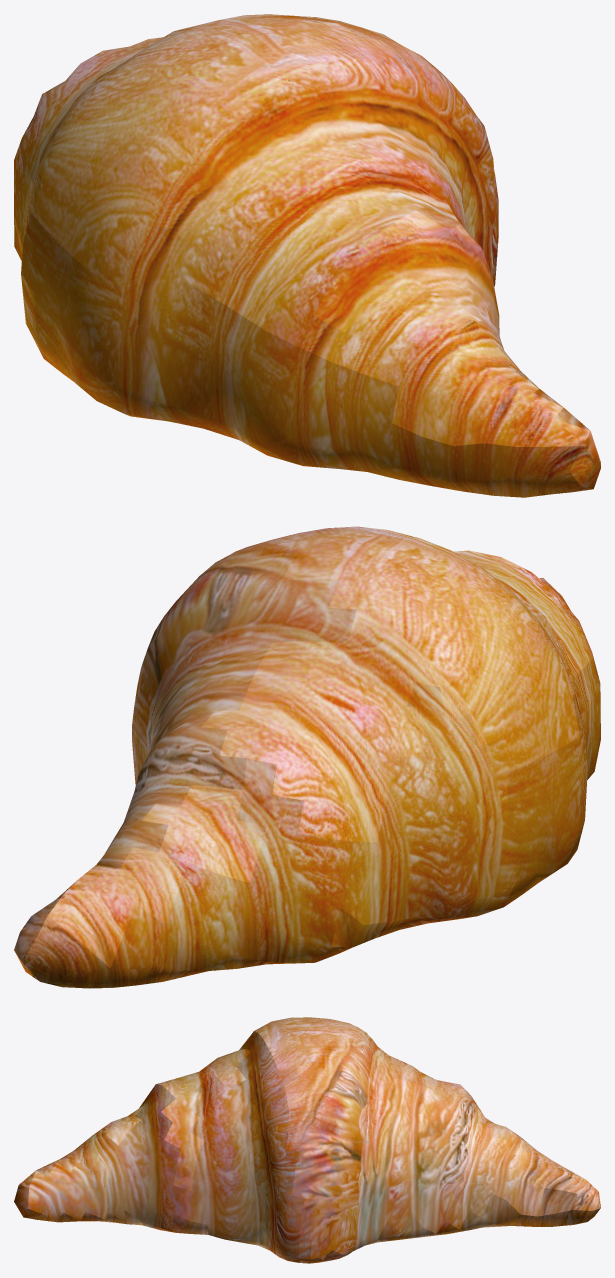
The model's file is crassant.glb.
3 views of the same model, one above another, from view 1: azimuth 30°, elevation 25°; view 2: azimuth 150°, elevation 25°; view 3: azimuth 270°, elevation 25° (orthographic). The views are drawn at different scales.
Parts seen in each view (by area): view 1: Croissant; view 2: Croissant; view 3: Croissant.
Boxes of the visible parts, x1,y1,x2,y2 form: Croissant: [14, 14, 600, 497]; Croissant: [14, 526, 600, 988]; Croissant: [14, 1017, 600, 1263].
Bounding box in the file's own units: 7.3 × 5.36 × 15.46.
Materials: 1 (1 with a texture image).
